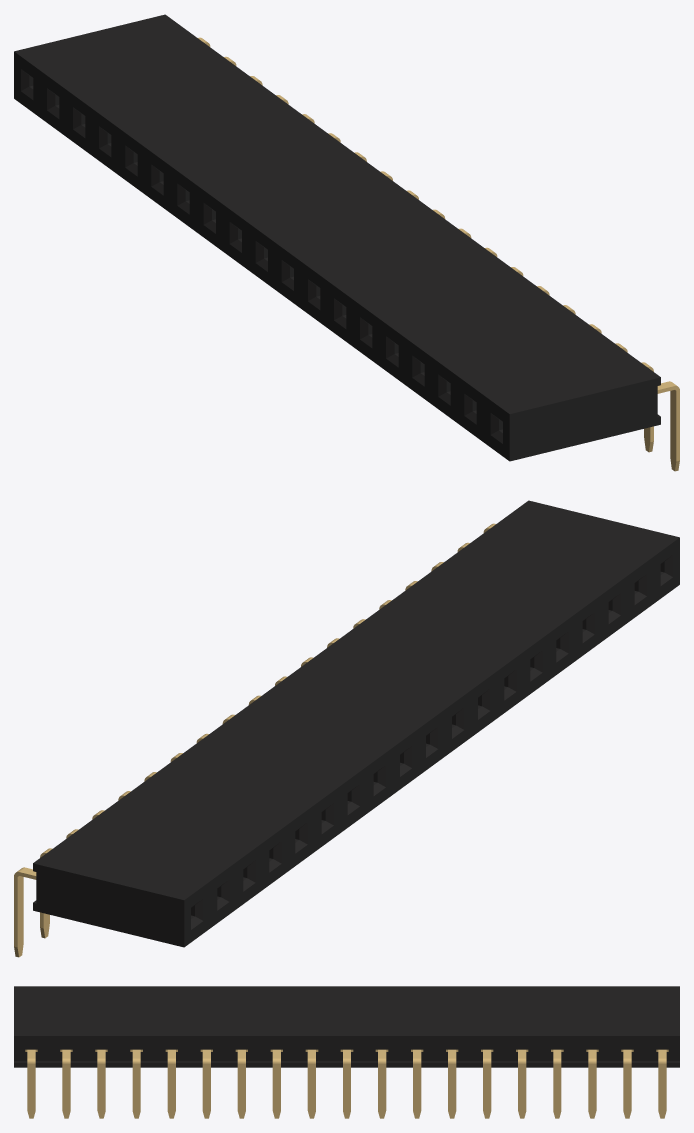
Rendered from kc-pinsocket_1x19_p2.54mm_horizontal.glb.
3 views of the same model, one above another, from view 1: azimuth 30°, elevation 25°; view 2: azimuth 150°, elevation 25°; view 3: azimuth 270°, elevation 25° (orthographic). The views are drawn at different scales.
Visible parts, largest first — view 1: 0_0_0_0, 0.75_0.5_0.25_0.9; view 2: 0_0_0_0, 0.75_0.5_0.25_0.9; view 3: 0_0_0_0, 0.75_0.5_0.25_0.9.
Part boxes in pixels (box(x1,y1,x2,y2)): 0_0_0_0: box(14, 14, 660, 461); 0.75_0.5_0.25_0.9: box(198, 37, 679, 471); 0_0_0_0: box(33, 500, 679, 947); 0.75_0.5_0.25_0.9: box(14, 523, 495, 957); 0_0_0_0: box(14, 986, 679, 1067); 0.75_0.5_0.25_0.9: box(25, 1049, 668, 1118).
Bounding box in the file's own units: 1.01 × 0.5841 × 4.83.
